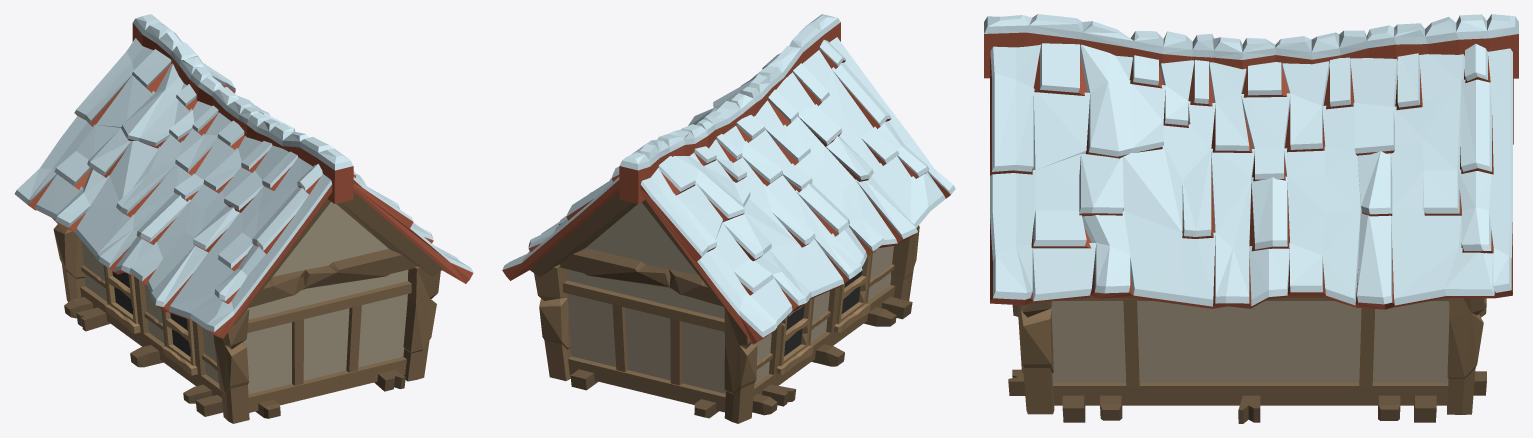
File: SM_Bld_House_RoomTop_04_Snow.gltf
3 views of the same model, side by side, from view 1: azimuth 30°, elevation 25°; view 2: azimuth 150°, elevation 25°; view 3: azimuth 270°, elevation 25° (orthographic). The views are drawn at different scales.
Visible parts, largest first — view 1: SM_Bld_House_RoomTop_04_Snow; view 2: SM_Bld_House_RoomTop_04_Snow; view 3: SM_Bld_House_RoomTop_04_Snow.
Part boxes in pixels (<box>): SM_Bld_House_RoomTop_04_Snow: <box>14,14,473,423</box>; SM_Bld_House_RoomTop_04_Snow: <box>502,14,955,423</box>; SM_Bld_House_RoomTop_04_Snow: <box>984,14,1518,423</box>.
Size of the model in its own units: 5.43 by 4.74 by 6.86.
Materials: 1 (1 with a texture image).
